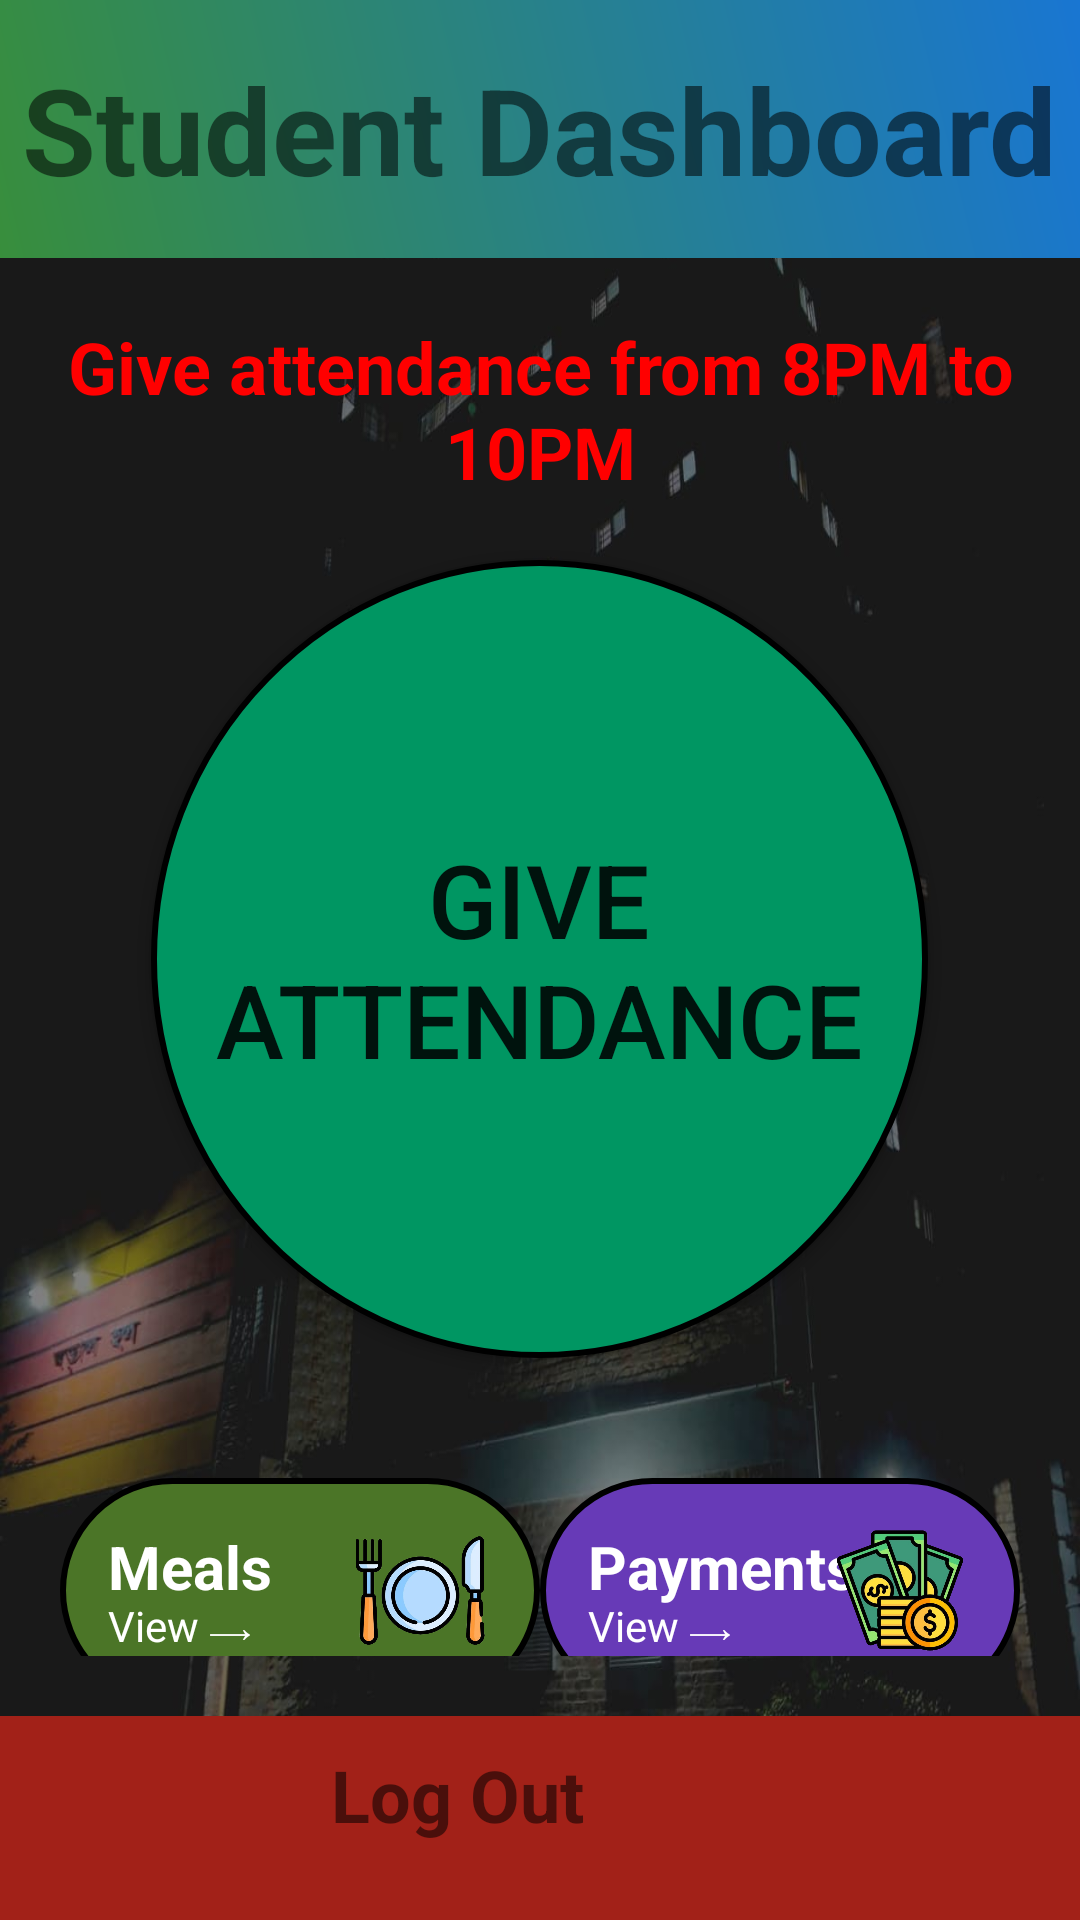

Screen size 1080px x 1920px. Icon name, then its box in pixels as bbox=[x1, y1, x2, y2]:
money: bbox=[828, 1530, 963, 1651]
